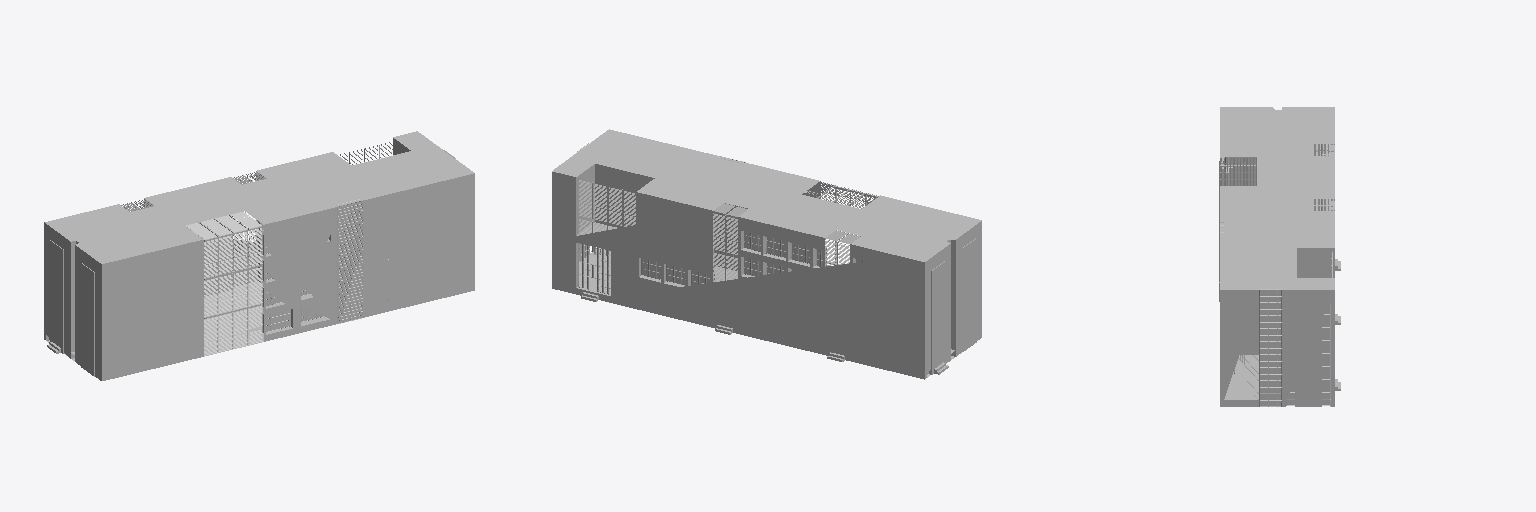
Rendered from BuildH_simplified.obj.
3 renders of one model, left to right at view 1: azimuth 30°, elevation 25°; view 2: azimuth 150°, elevation 25°; view 3: azimuth 270°, elevation 25°, orthographic.
Parts seen in each view (by area): view 1: Cube; view 2: Cube; view 3: Cube.
Boxes of the visible parts, x1,y1,x2,y2 form: Cube: [44, 131, 474, 380]; Cube: [552, 129, 981, 379]; Cube: [1219, 107, 1340, 406].
Bounding box in the file's own units: 153 × 45.27 × 42.13.